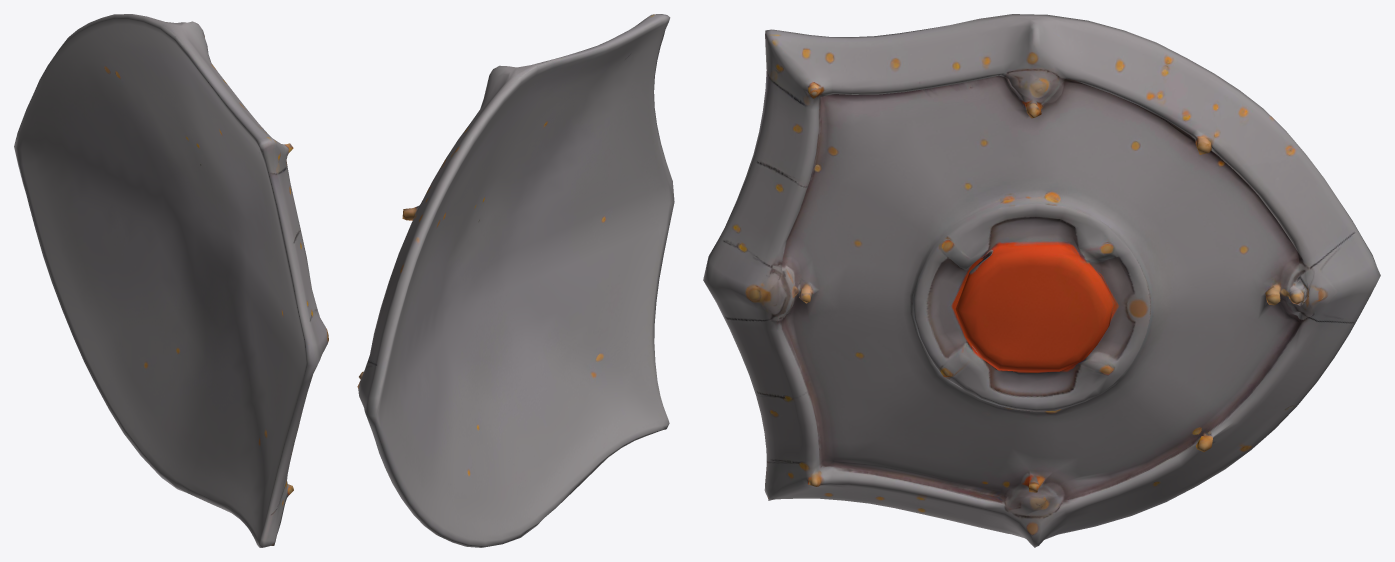
The model's file is SciFiShield.fbx.
The picture shows the model from 3 angles, left to right: view 1: azimuth 30°, elevation 25°; view 2: azimuth 150°, elevation 25°; view 3: azimuth 270°, elevation 25°; orthographic projection. The views are drawn at different scales.
Visible parts, largest first — view 1: tripo_node_63a850ab.001; view 2: tripo_node_63a850ab.001; view 3: tripo_node_63a850ab.001.
Part boxes in pixels (x1,y1,x2,y2): tripo_node_63a850ab.001: [14, 14, 328, 547]; tripo_node_63a850ab.001: [357, 14, 674, 547]; tripo_node_63a850ab.001: [703, 14, 1380, 547].
Size of the model in its own units: 0.1869 by 0.8427 by 0.9899.
1 material, 1 textured.
